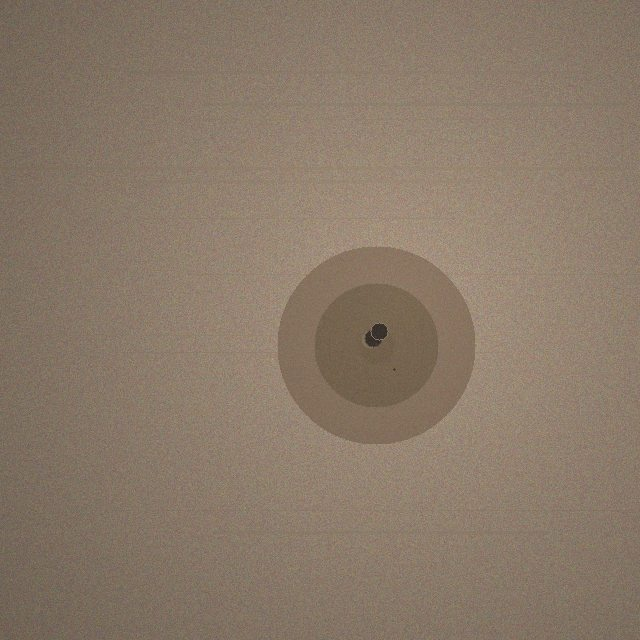shrinkage: (277, 246, 475, 444)
